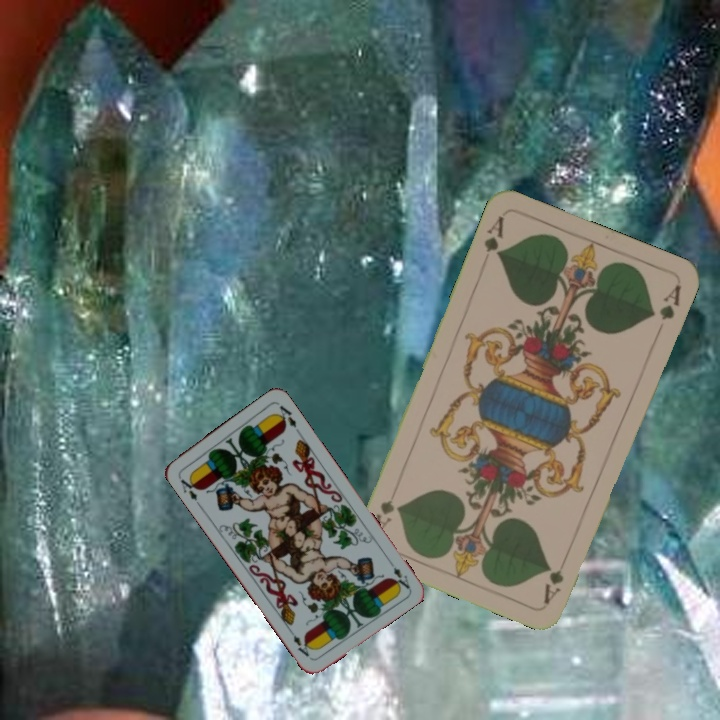EA: (384, 555, 413, 591), (177, 472, 202, 508)
GA: (539, 551, 571, 607), (480, 211, 507, 260)
